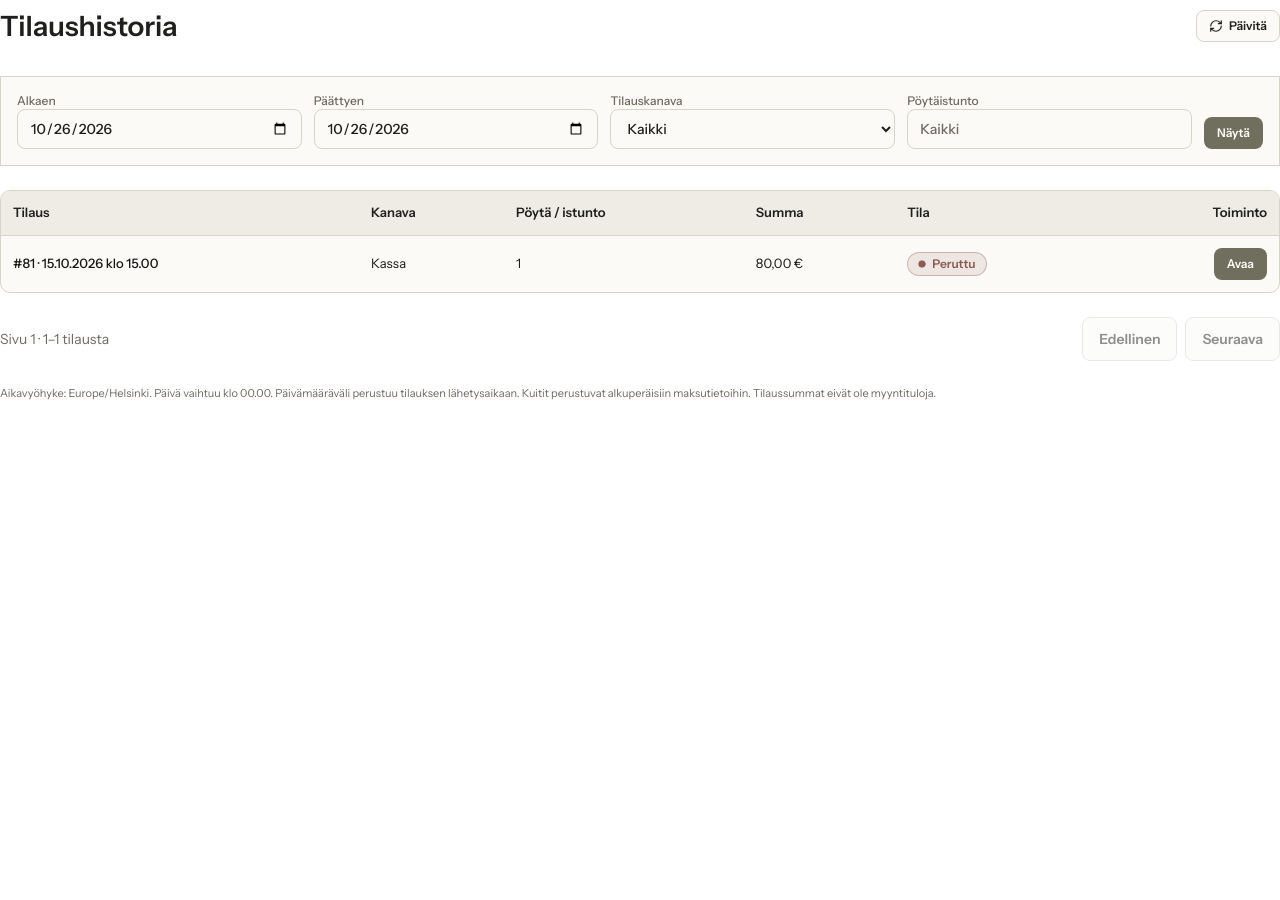
Test case: opens the existing pending refund from Tilaushistoria without reserving again
Step 1. Click the button "Avaa" → x=1240, y=264, box [1214,248,1267,280]
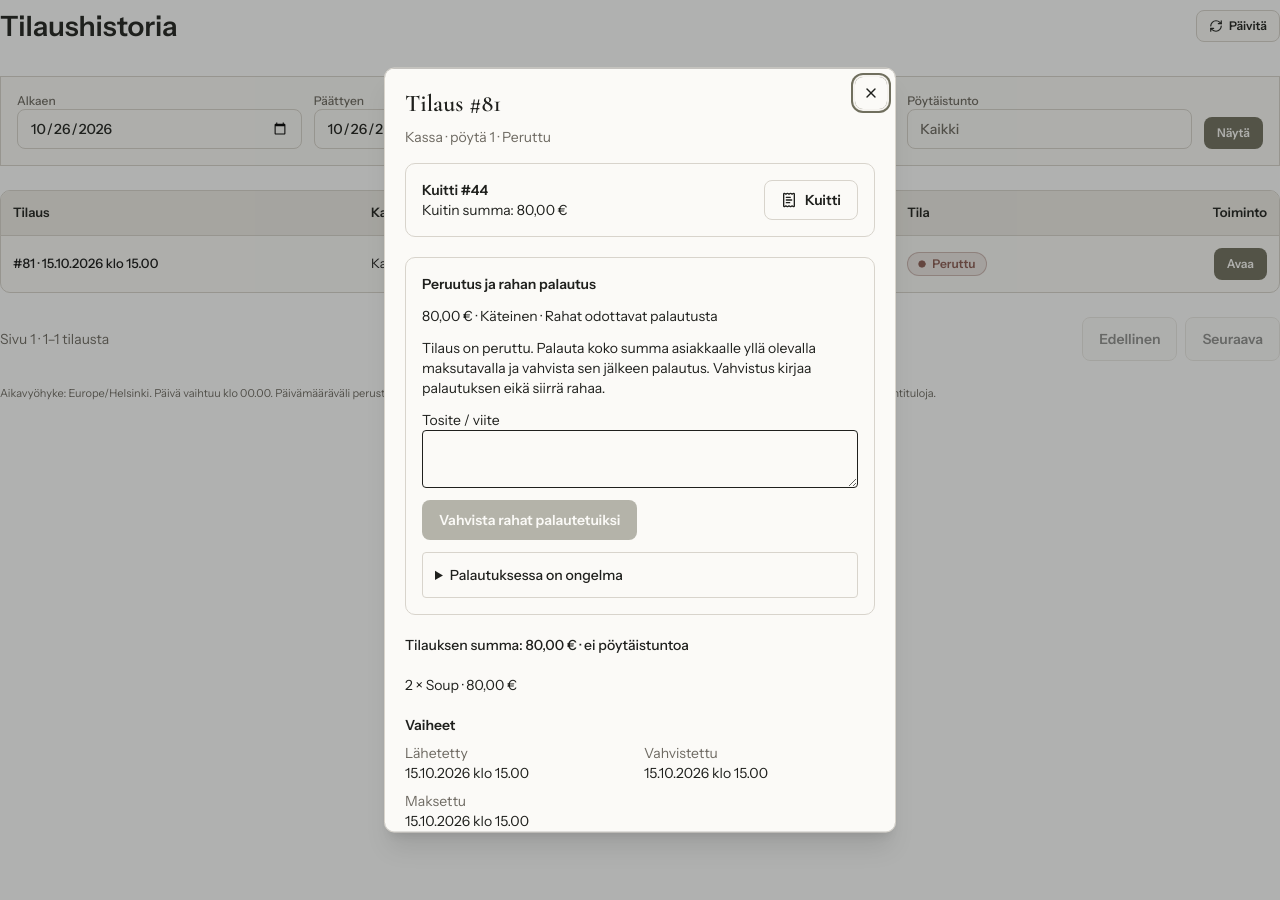
Check: the text "80,00 € · Käteinen · Rahat odottavat palautusta" is shown, box [422,306,718,324]
Check: the button "Vahvista rahat palautetuiksi" is shown, box [422,500,637,540]
